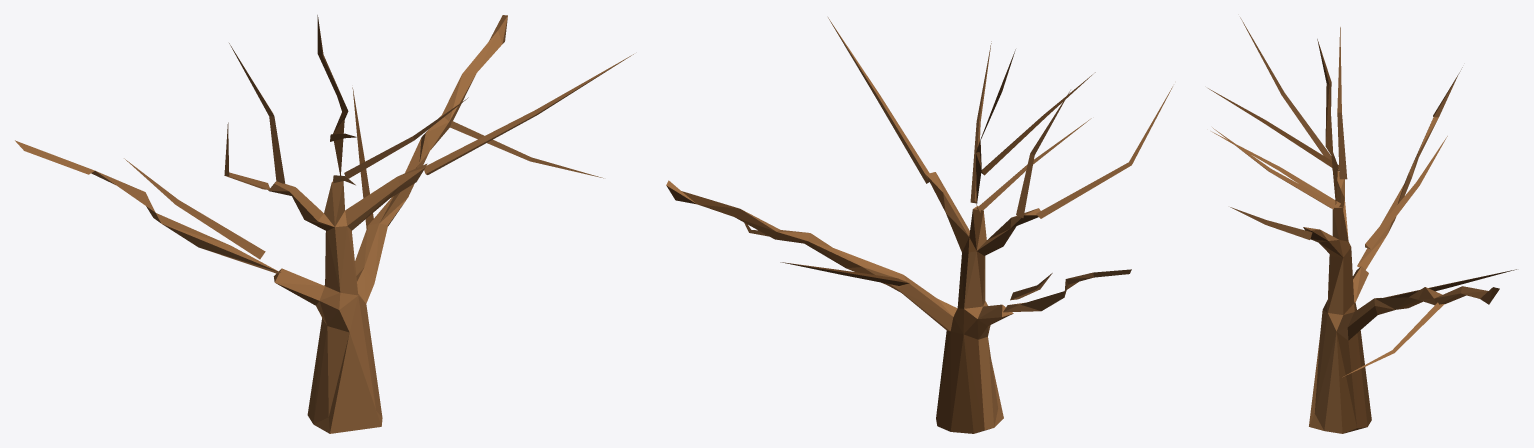
The model's file is magnolia_bare_far.glb.
3 views of the same model, side by side, from view 1: azimuth 30°, elevation 25°; view 2: azimuth 150°, elevation 25°; view 3: azimuth 270°, elevation 25° (orthographic). The views are drawn at different scales.
Visible parts, largest first — view 1: magnolia_bare_far; view 2: magnolia_bare_far; view 3: magnolia_bare_far.
Part boxes in pixels (x1=…): magnolia_bare_far: x1=15, y1=15, x2=633, y2=433; magnolia_bare_far: x1=666, y1=17, x2=1172, y2=433; magnolia_bare_far: x1=1208, y1=17, x2=1516, y2=433.
Size of the model in its own units: 7.73 by 6.03 by 4.72.
